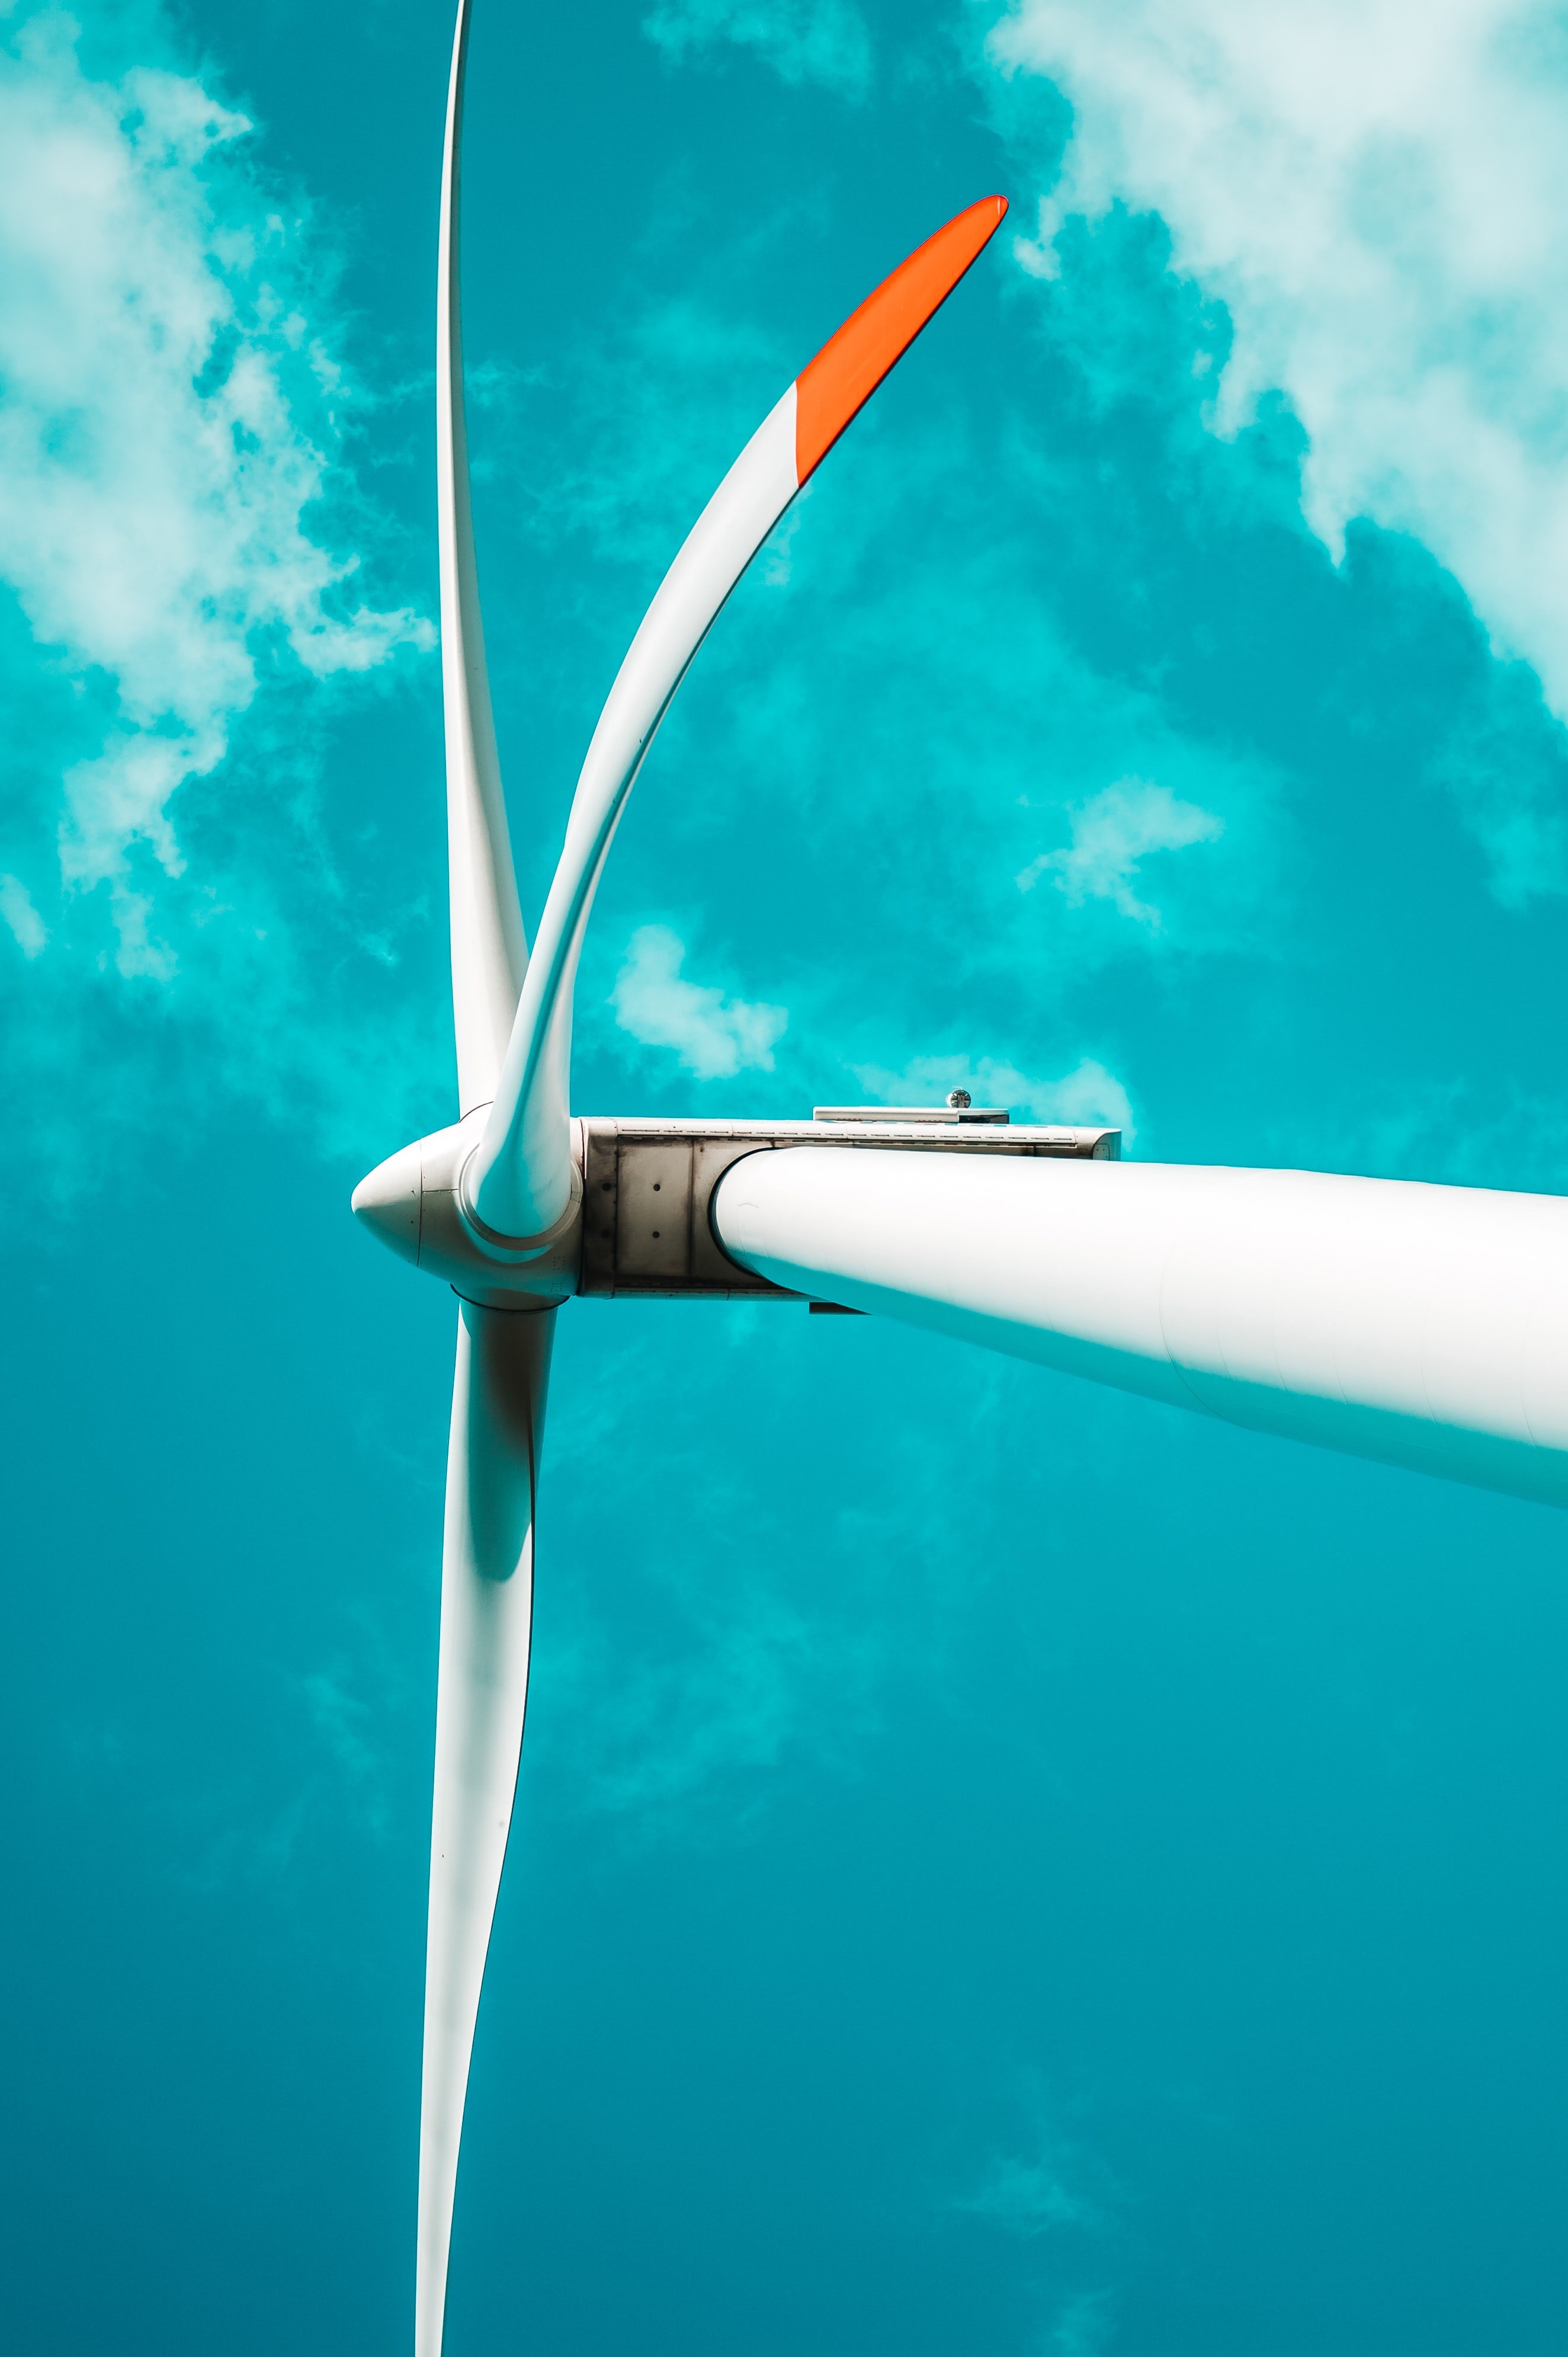working: (350, 220, 996, 2098)
